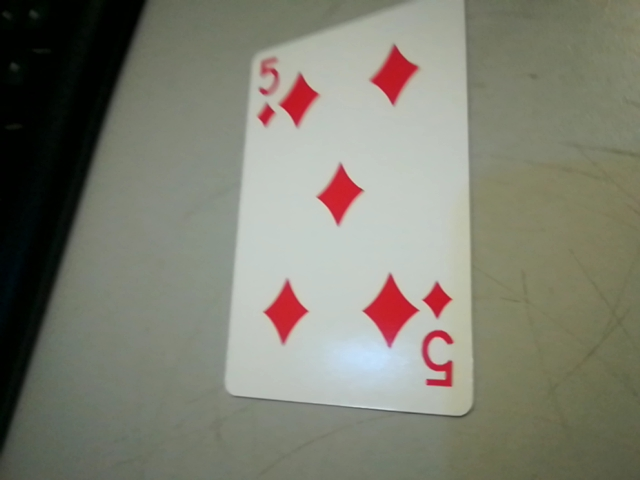fk 5: (411, 273, 469, 399)
